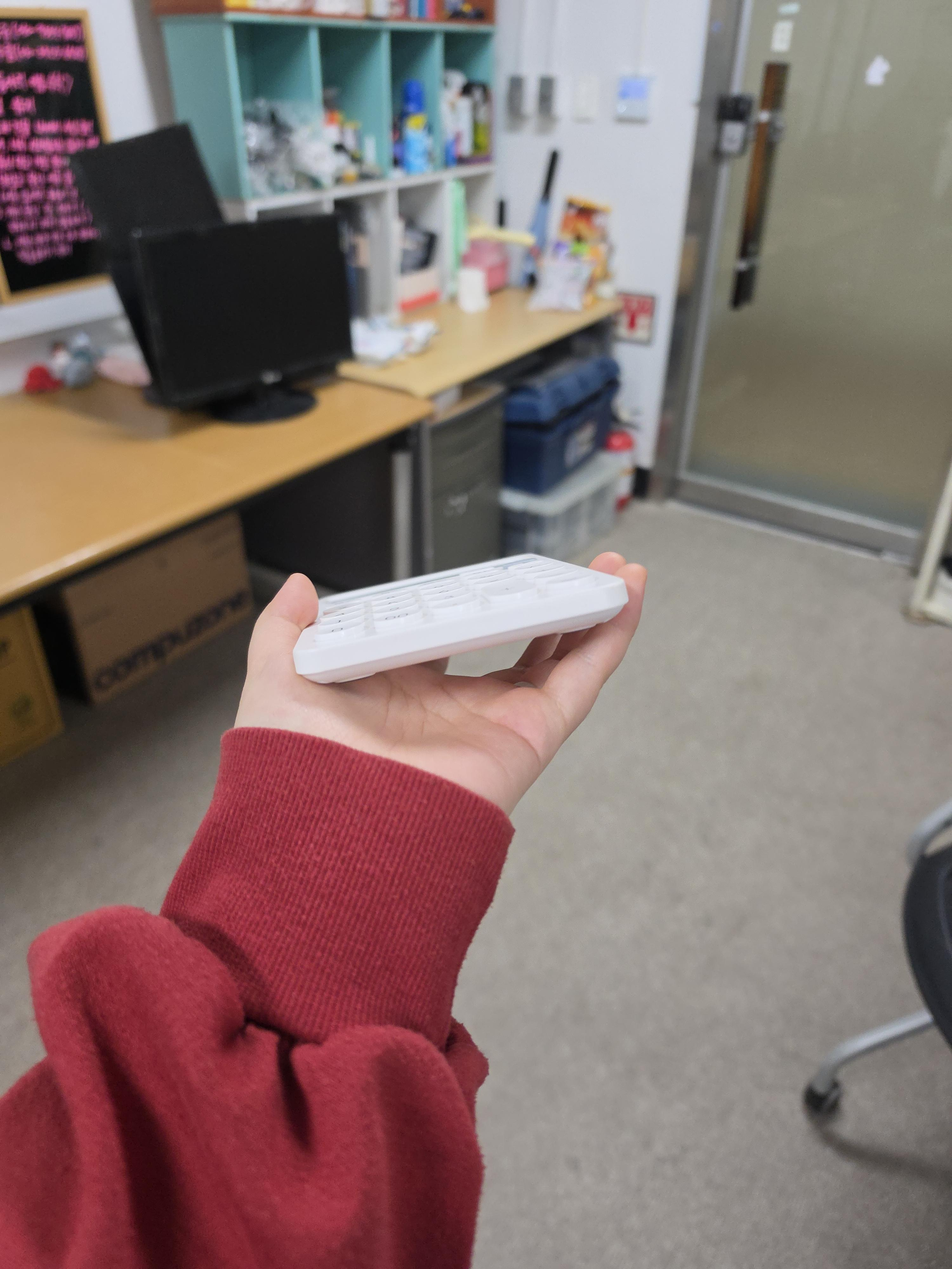calculator: (293, 553, 628, 683)
